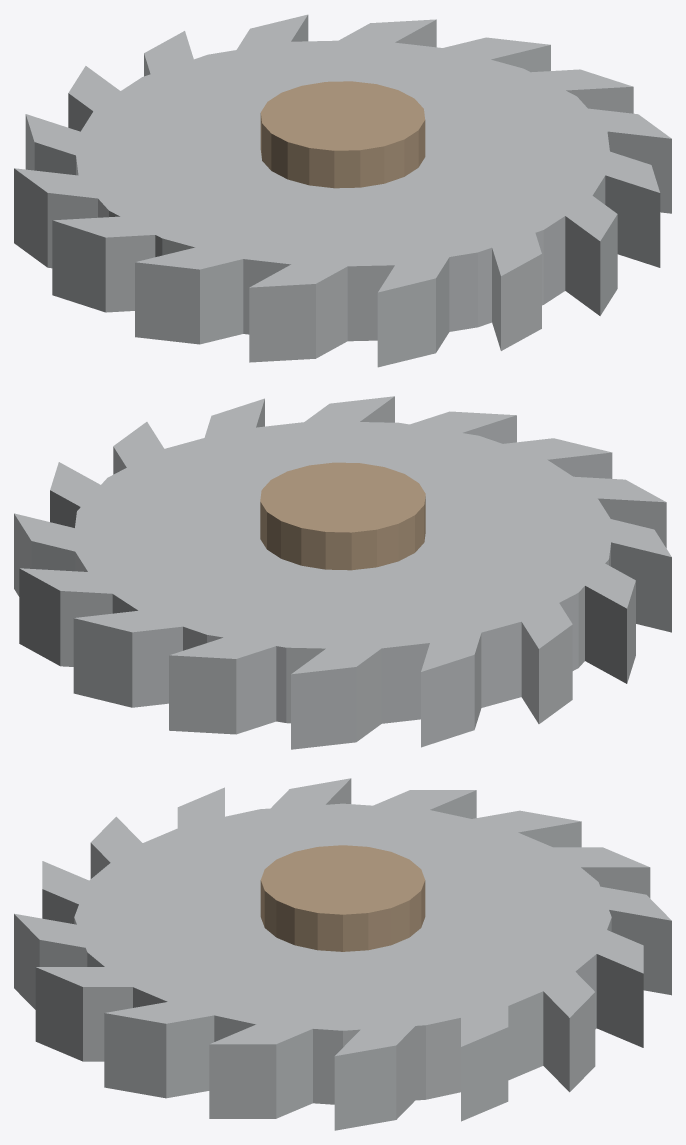
Rendered from saw_blade.glb.
3 views of the same model, one above another, from view 1: azimuth 30°, elevation 25°; view 2: azimuth 150°, elevation 25°; view 3: azimuth 270°, elevation 25° (orthographic).
Parts seen in each view (by area): view 1: Mesh_Mesh_head_geo.001_lambert2SG.001; view 2: Mesh_Mesh_head_geo.001_lambert2SG.001; view 3: Mesh_Mesh_head_geo.001_lambert2SG.001.
Boxes of the visible parts, x1,y1,x2,y2 form: Mesh_Mesh_head_geo.001_lambert2SG.001: (14,14,671,367); Mesh_Mesh_head_geo.001_lambert2SG.001: (14,396,671,749); Mesh_Mesh_head_geo.001_lambert2SG.001: (14,778,671,1130).
Size of the model in its own units: 80 by 20 by 80.
